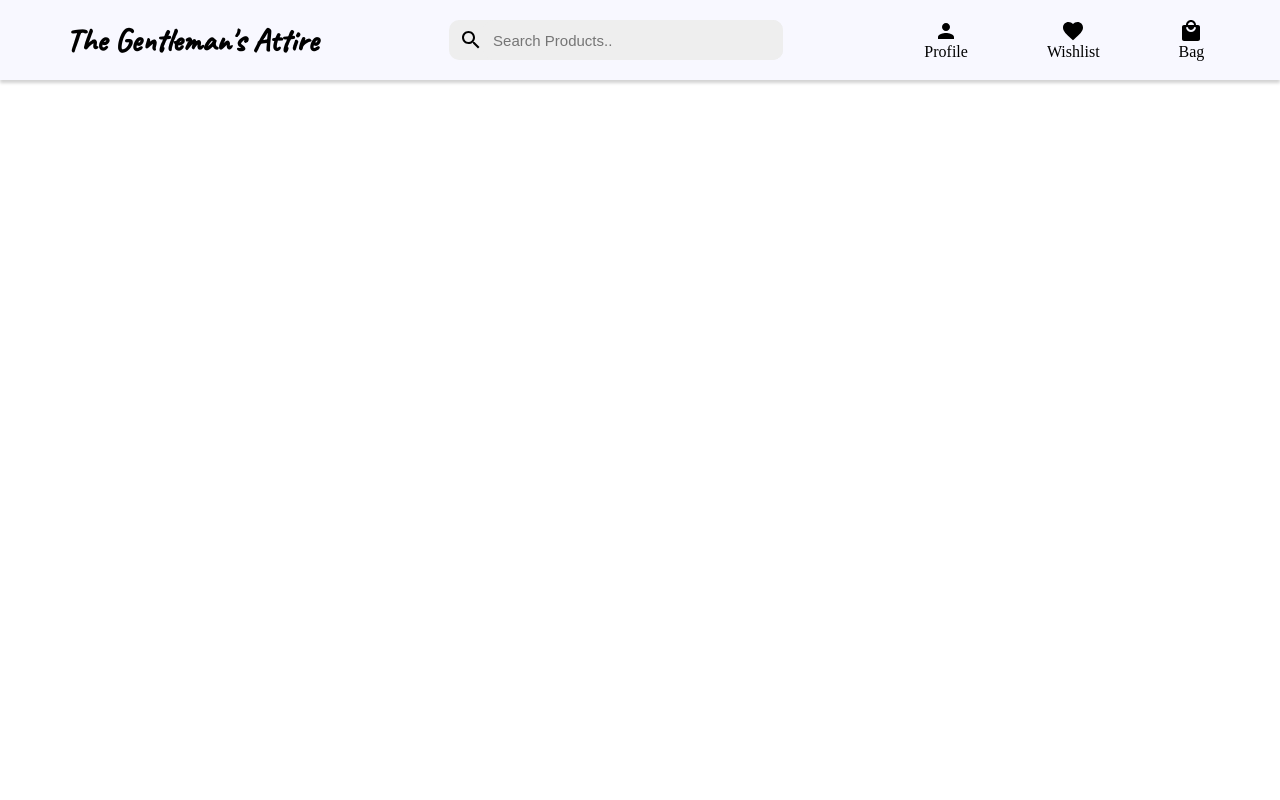
Test: Cart › Empty Cart component is rendering if the Cart is empty
This screenshot has width=1280, height=800.
Click the link with test id "cartElement". click: x=1192, y=40
box: left=1179, top=19, right=1204, bottom=61
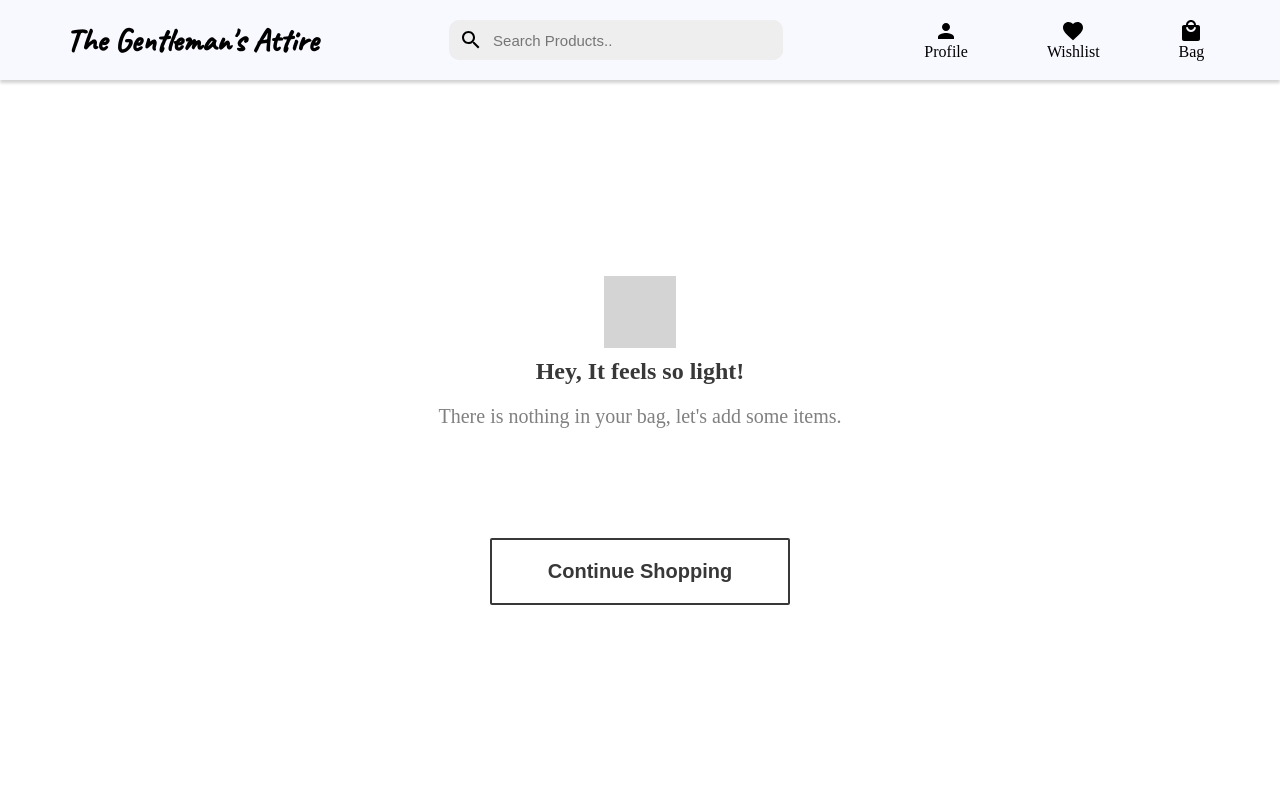
Expected: the element with test id "EmptyCartElement" is shown, left=438, top=276, right=842, bottom=604
